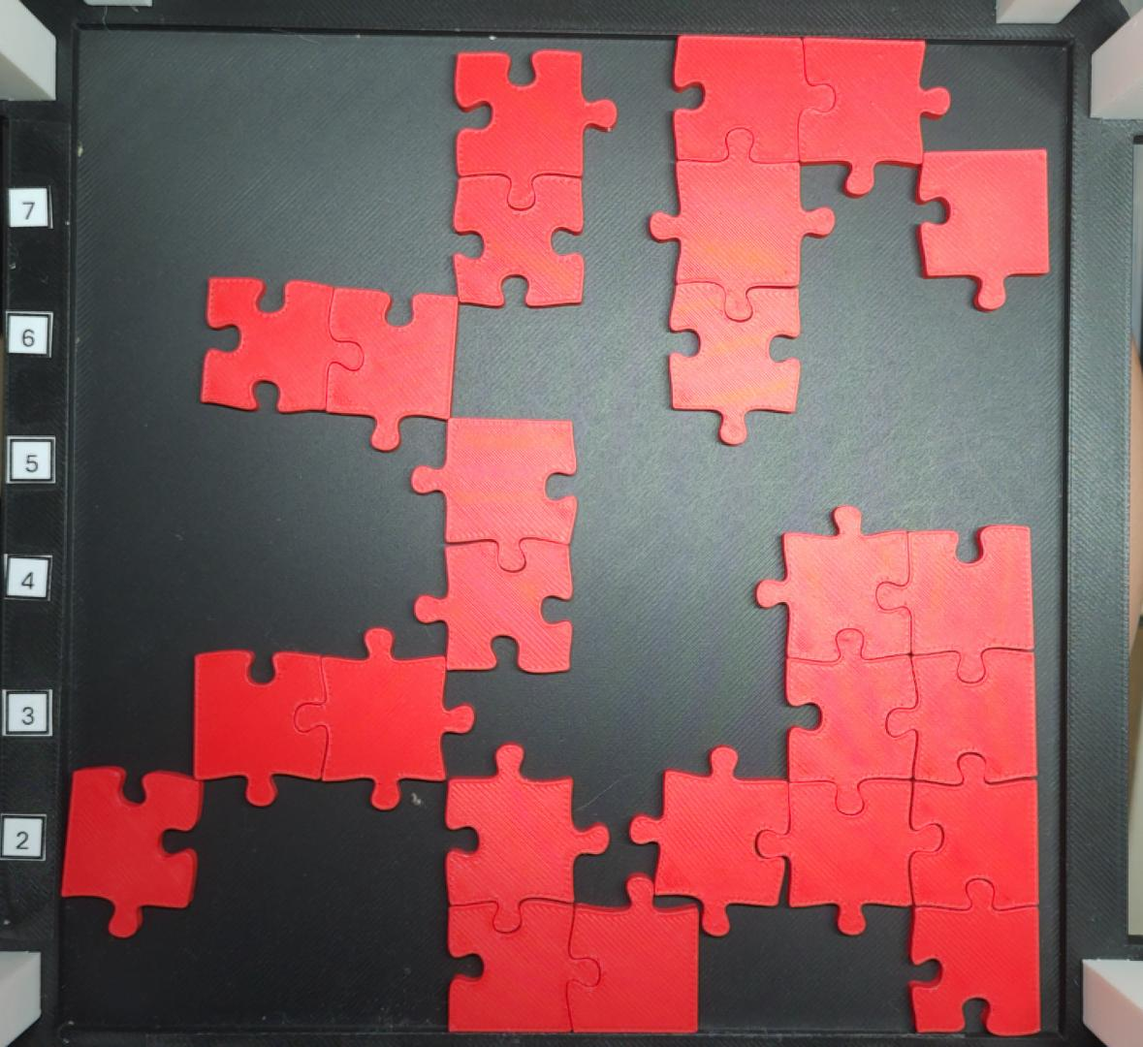p_1: (62, 763, 205, 936), (913, 146, 1054, 315)
p_2: (191, 627, 477, 807), (195, 275, 461, 451), (410, 416, 581, 675), (450, 48, 619, 310)
p_3: (447, 743, 701, 1034)
p_4: (646, 34, 952, 443)
p_m: (626, 505, 1043, 1034)
